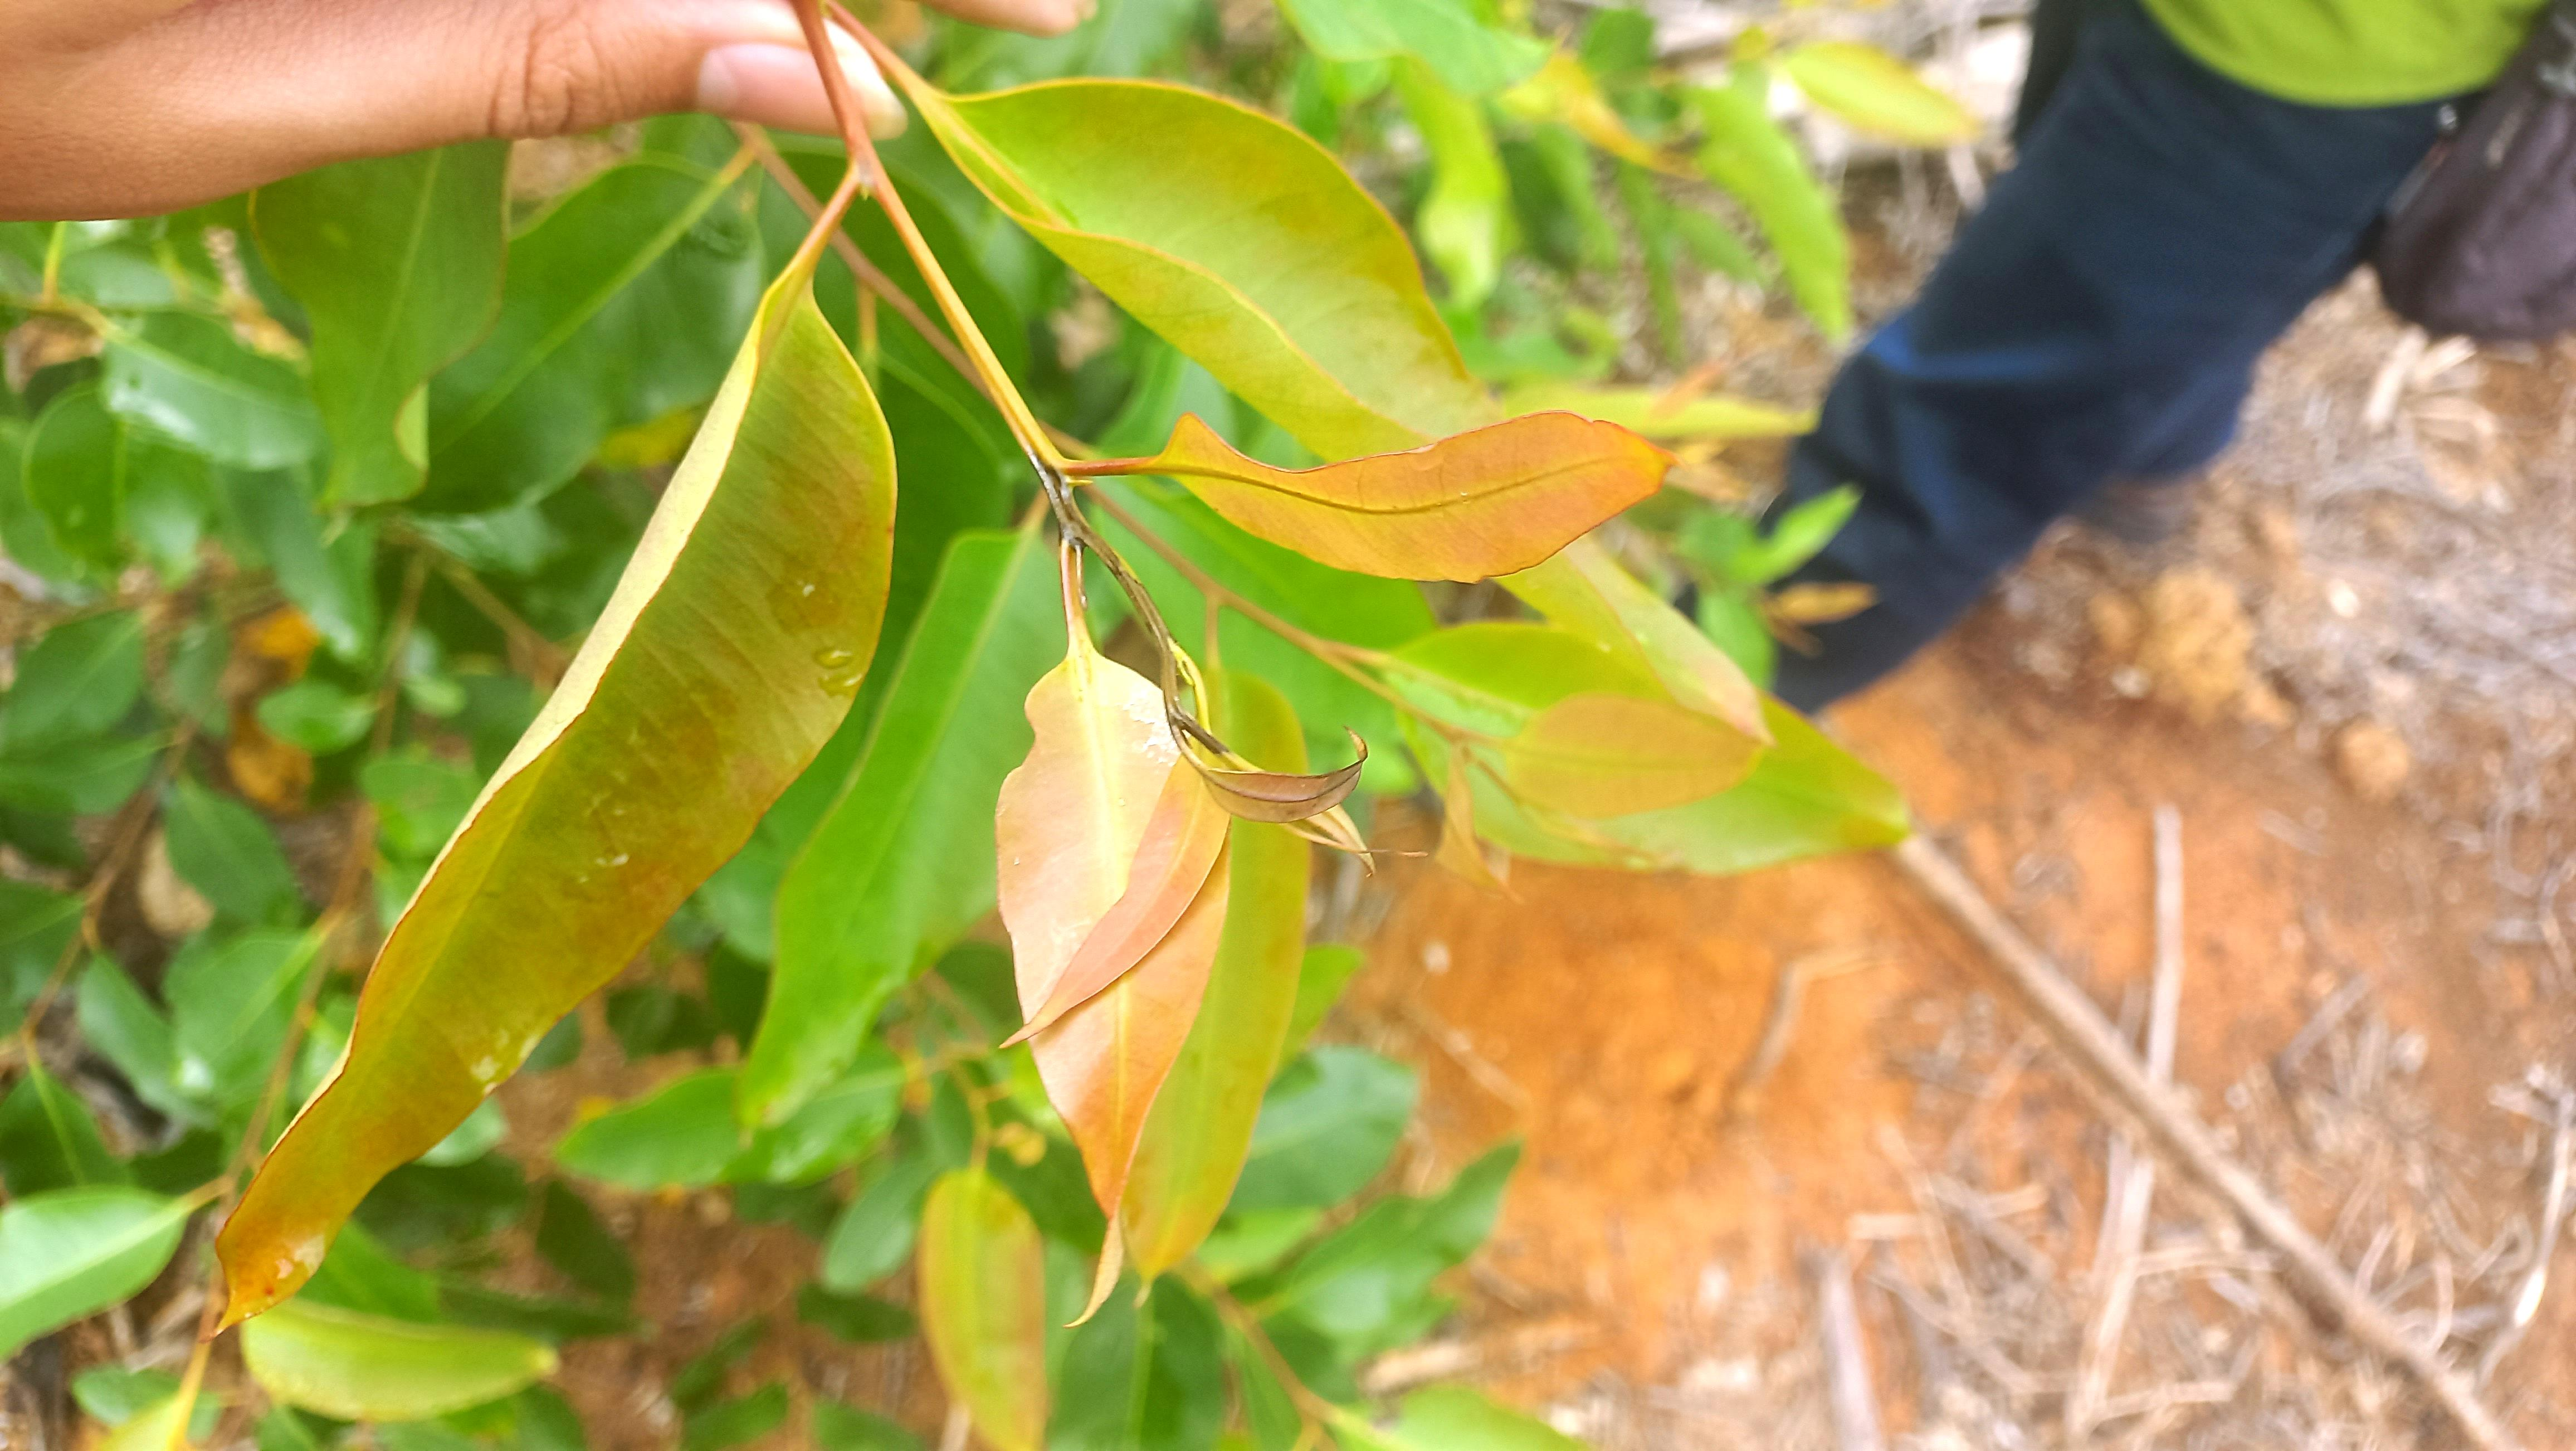Helopeltis-Withered Sprout: (1033, 462, 1198, 749), (1212, 749, 1375, 883), (1198, 731, 1366, 823), (1750, 589, 1886, 658), (126, 1269, 209, 1377), (12, 304, 97, 391), (1281, 823, 1428, 862), (513, 618, 566, 692), (177, 549, 225, 607)
